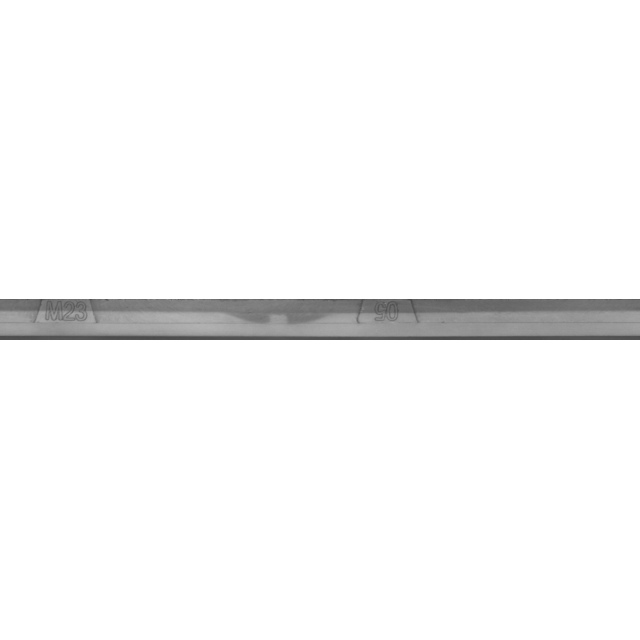mohao: (0, 270, 167, 370)
xuehao: (285, 270, 485, 370)
